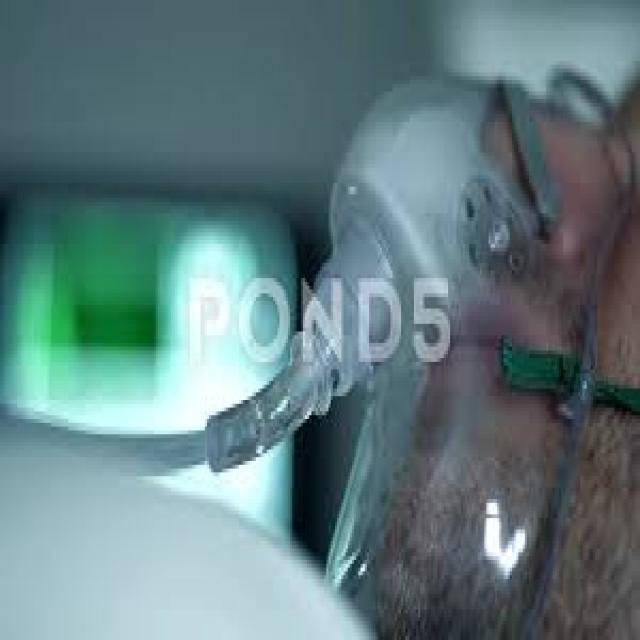oxygen_mask: (277, 78, 577, 640)
